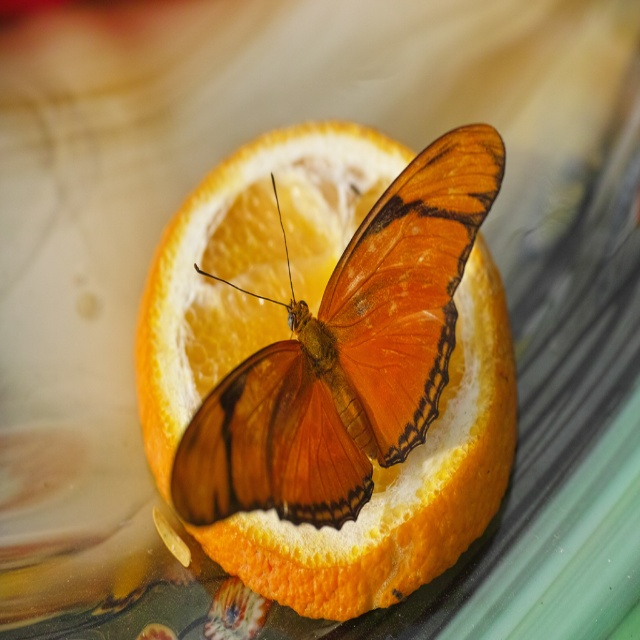Butterfly: (141, 115, 517, 639)
